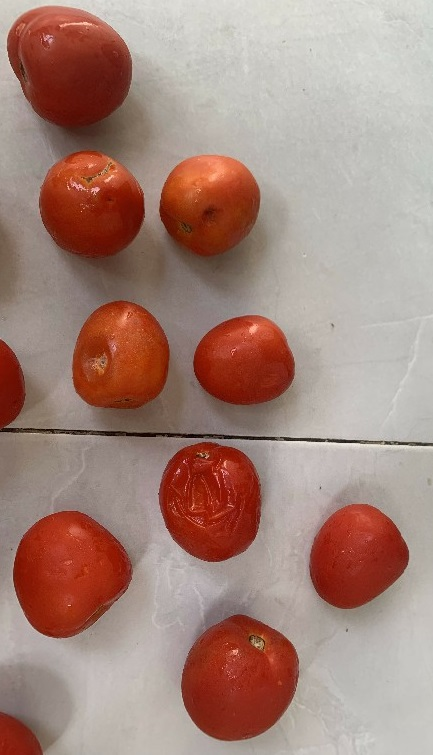NG: (150, 437, 267, 570), (36, 142, 148, 260), (152, 150, 271, 258), (66, 296, 171, 411)
OK: (176, 608, 308, 746), (5, 1, 141, 127), (8, 505, 135, 638), (185, 308, 296, 407), (308, 501, 409, 609)
